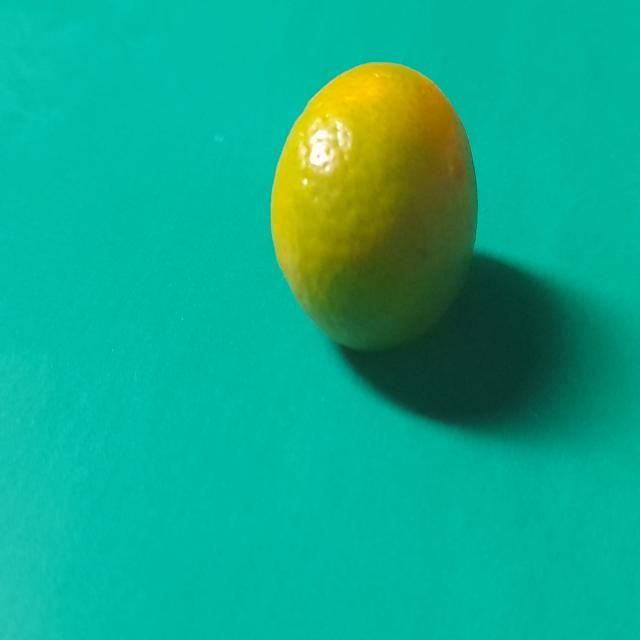greening: (270, 61, 480, 354)
